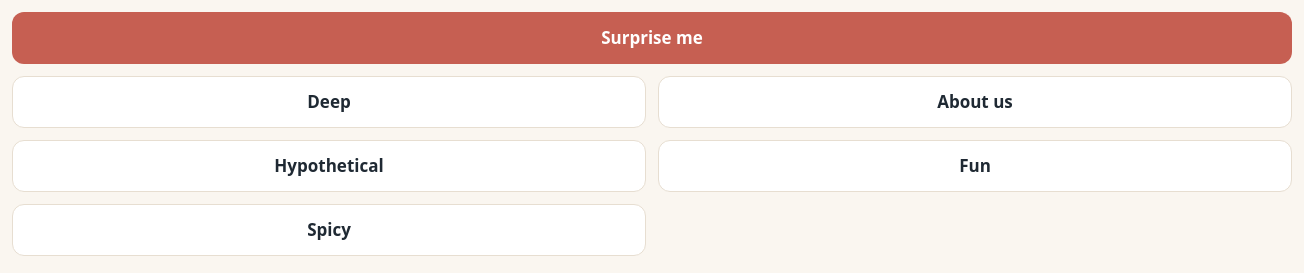
Test: CategoryPicker › mostra l’errore tradotto se la pescata fallisce
This screenshot has width=1304, height=273.
Click the button "Fun": [975, 166] box top-left (658, 140), bottom-right (1292, 192)
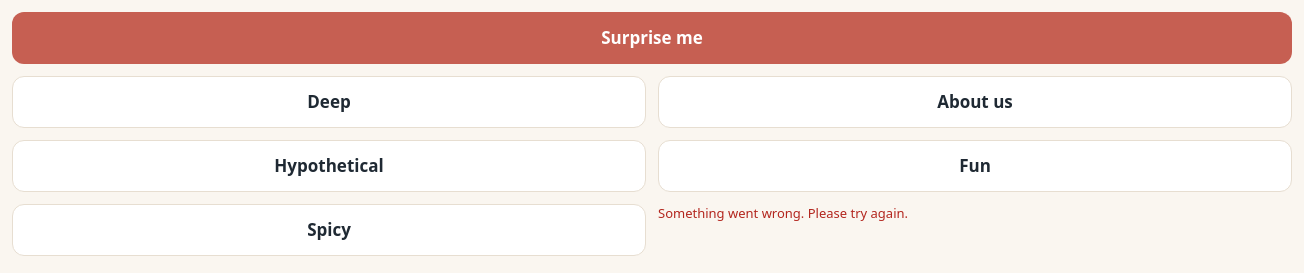
Check: the message "Something went wrong. Please try again." is shown, box top-left (658, 204), bottom-right (908, 222)
